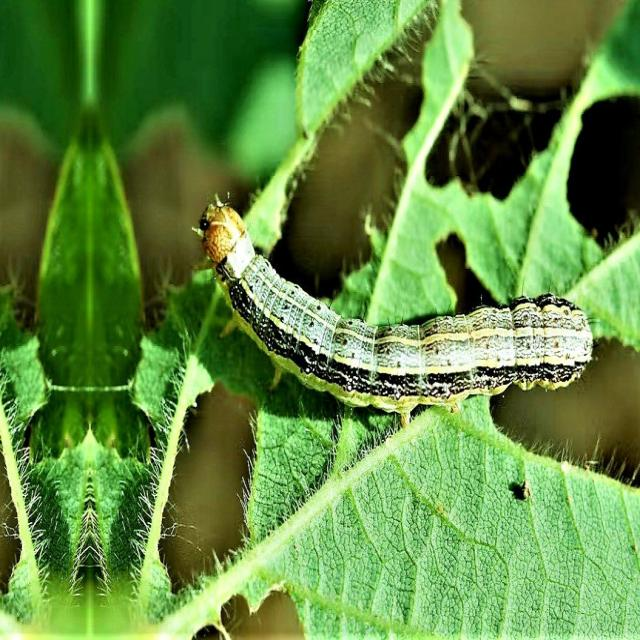Armyworm: (189, 153, 594, 498)
